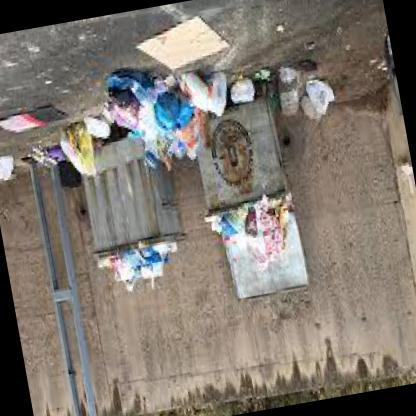Garbage: (105, 54, 234, 134), (124, 58, 193, 170), (207, 198, 299, 266), (93, 236, 184, 296), (56, 117, 98, 179), (302, 69, 340, 119), (76, 108, 113, 152)
